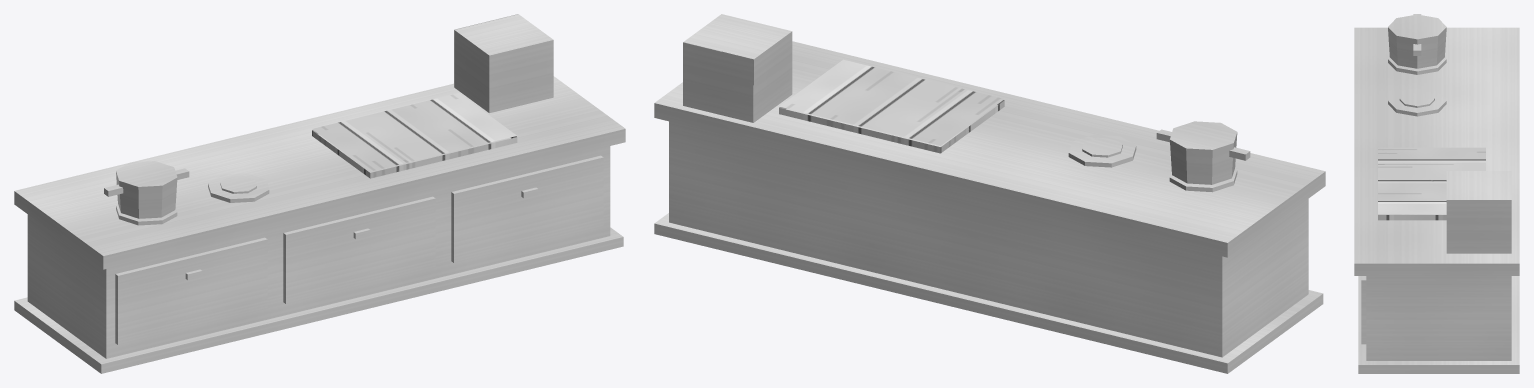
File: bench_stove.obj
3 views of the same model, side by side, from view 1: azimuth 30°, elevation 25°; view 2: azimuth 150°, elevation 25°; view 3: azimuth 270°, elevation 25° (orthographic). The views are drawn at different scales.
Parts seen in each view (by area): view 1: bench_stove; view 2: bench_stove; view 3: bench_stove.
Boxes of the visible parts, x1,y1,x2,y2 form: bench_stove: [14, 14, 625, 373]; bench_stove: [654, 14, 1325, 373]; bench_stove: [1354, 14, 1519, 373].
Bounding box in the file's own units: 2.84 × 0.92 × 0.84.
